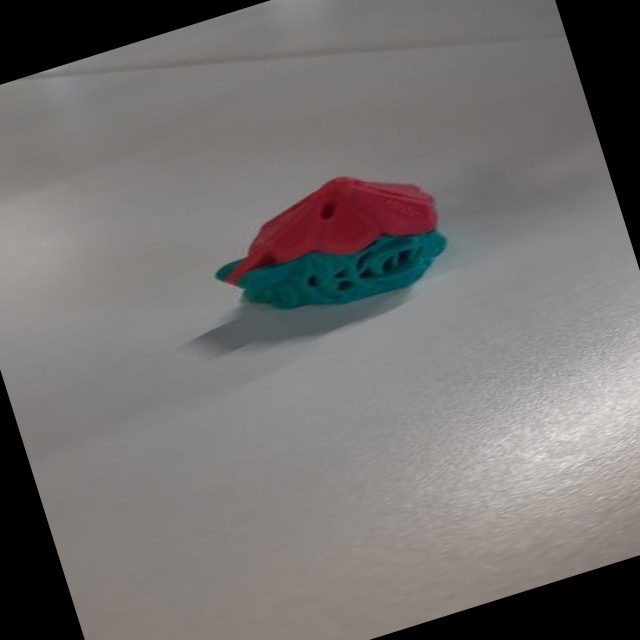House: (195, 147, 465, 346)
